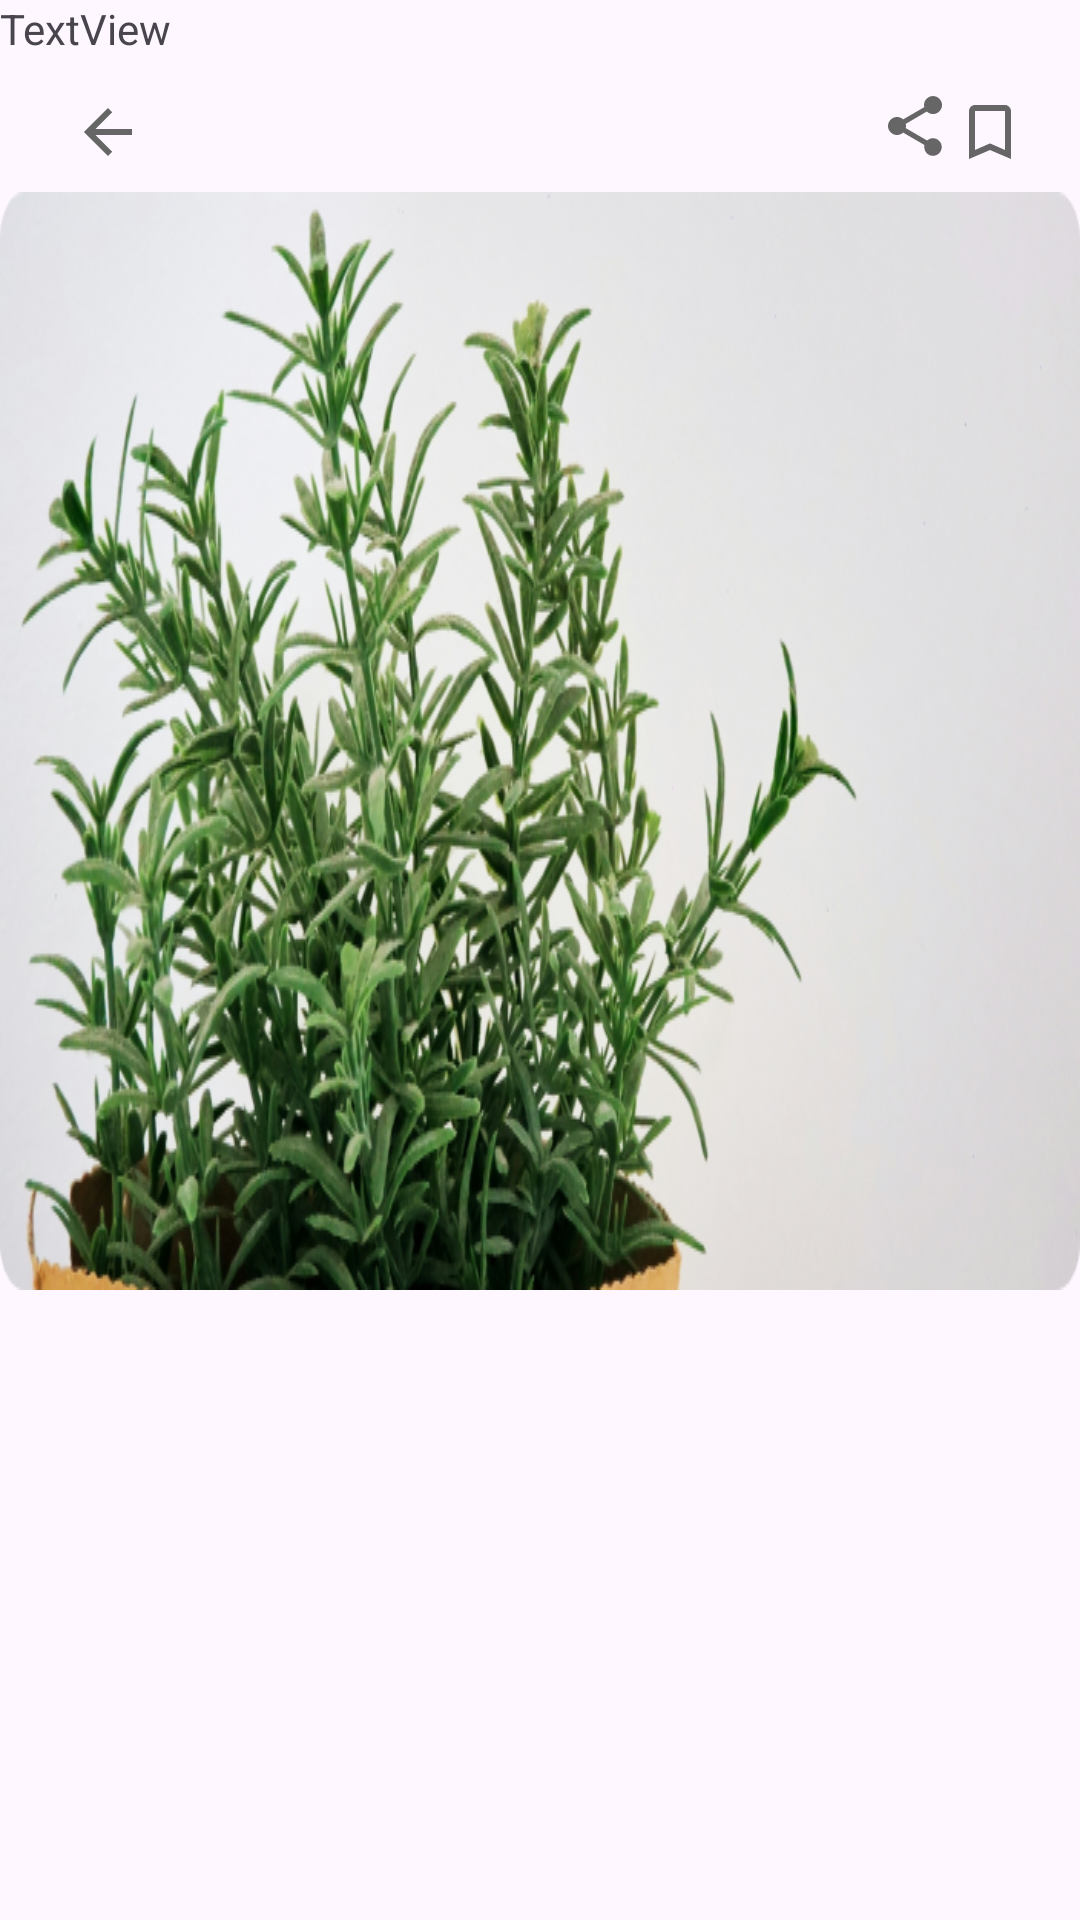

Named icons in this screenshot (1080 × 1920) and their centers, point (x, y):
arrow back: point (108, 132)
bookmark border: point (990, 132)
share: point (915, 126)
